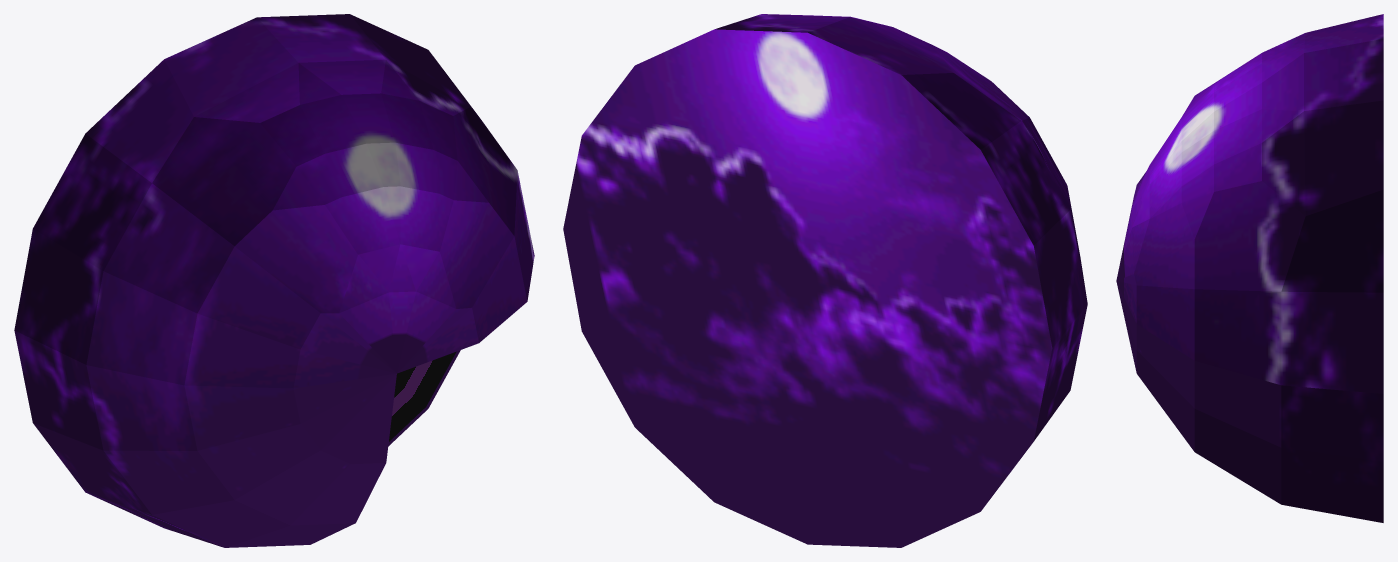
Rendered from Darkrai-TS_00_00.obj.
3 views of the same model, side by side, from view 1: azimuth 30°, elevation 25°; view 2: azimuth 150°, elevation 25°; view 3: azimuth 270°, elevation 25° (orthographic). The views are drawn at different scales.
Parts seen in each view (by area): view 1: map; view 2: map; view 3: map.
Boxes of the visible parts, x1=… form: map: x1=14, y1=14, x2=534, y2=547; map: x1=563, y1=14, x2=1087, y2=547; map: x1=1116, y1=14, x2=1383, y2=522.
Size of the model in its own units: 10.64 by 10.64 by 5.32.
5 materials, 5 textured.
